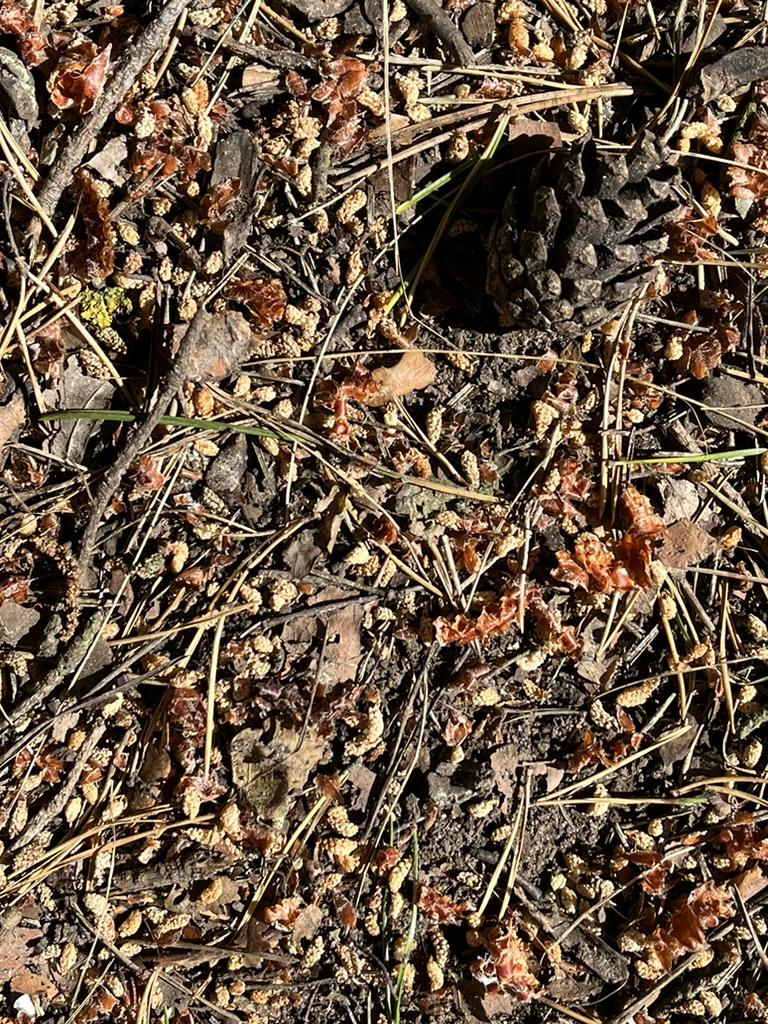pine: (481, 116, 671, 366)
